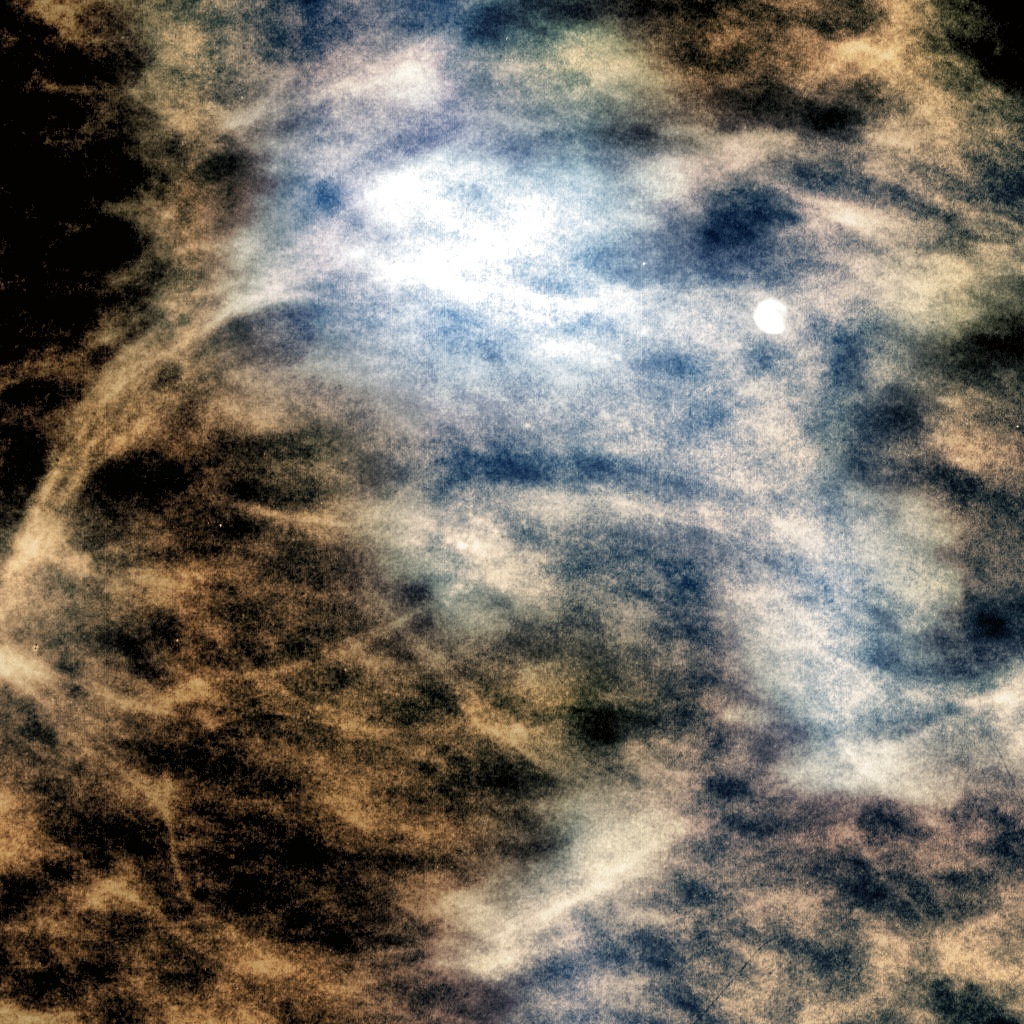tumor: (329, 369, 695, 655)
